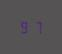nine: (19, 19, 29, 33)
seven: (30, 19, 40, 34)
